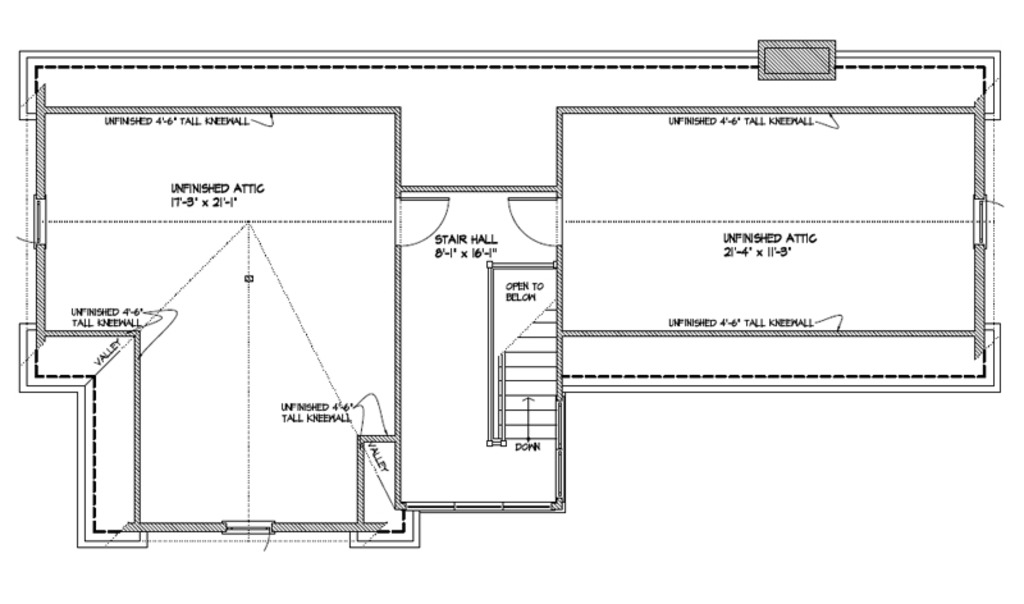door: (393, 194, 452, 249), (503, 195, 561, 249)
stairs: (489, 259, 560, 452)
windows: (219, 514, 278, 541), (968, 189, 993, 249), (31, 195, 50, 254)
